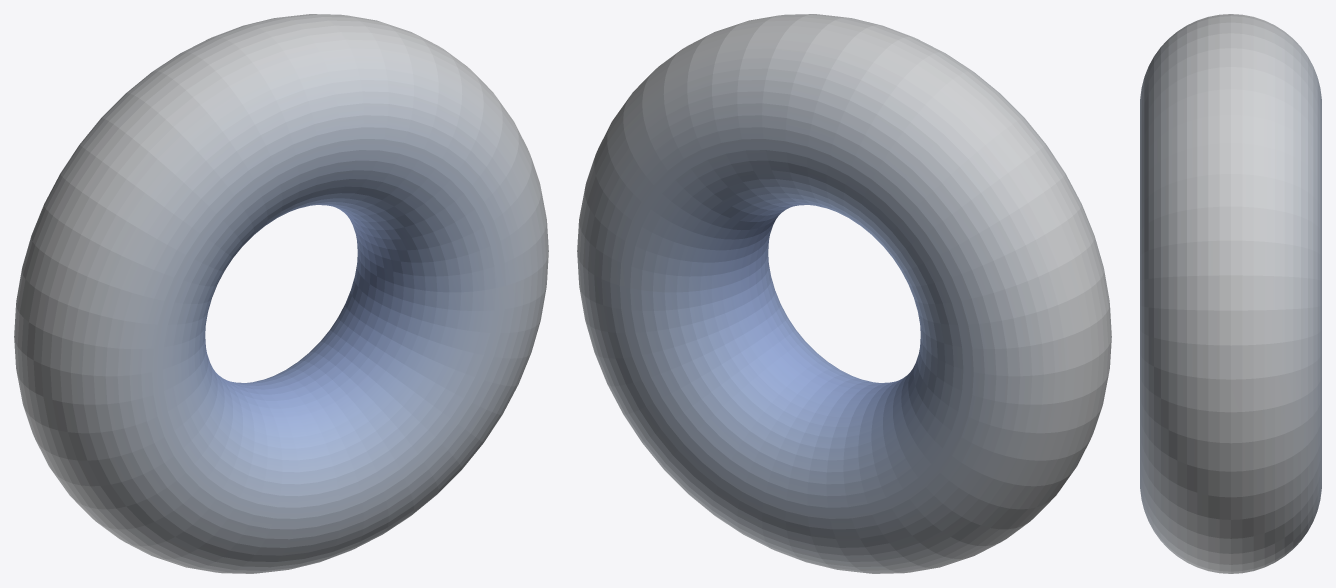
3 views of the same model, side by side, from view 1: azimuth 30°, elevation 25°; view 2: azimuth 150°, elevation 25°; view 3: azimuth 270°, elevation 25° (orthographic). The views are drawn at different scales.
Visible parts, largest first — view 1: world; view 2: world; view 3: world.
Part boxes in pixels (bbox=[...]): world: bbox=[14, 14, 548, 573]; world: bbox=[577, 14, 1111, 573]; world: bbox=[1140, 14, 1321, 573].
Bounding box in the file's own units: 21.73 × 21.69 × 7.05.
